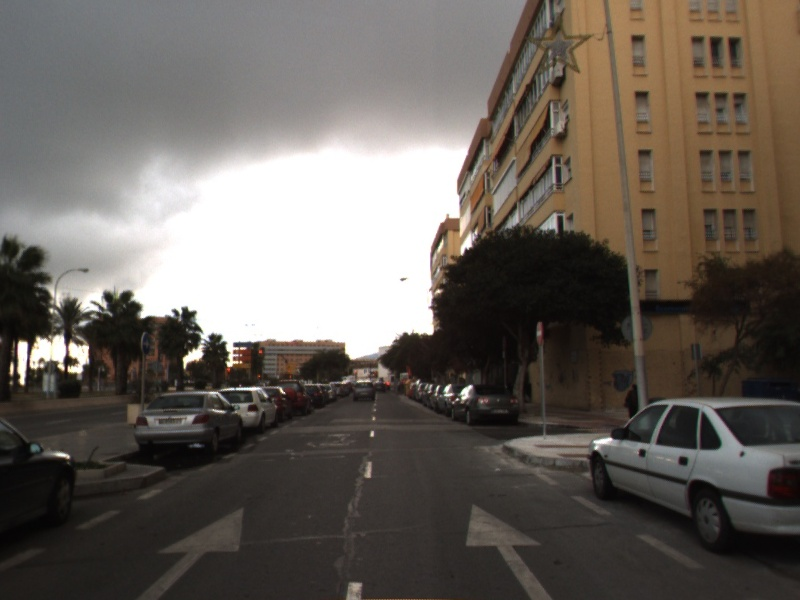STRAIGHT: (135, 504, 246, 600), (464, 503, 557, 600)
